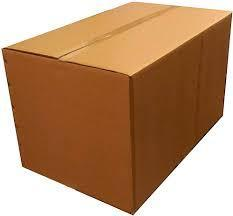box: (1, 2, 231, 216)
